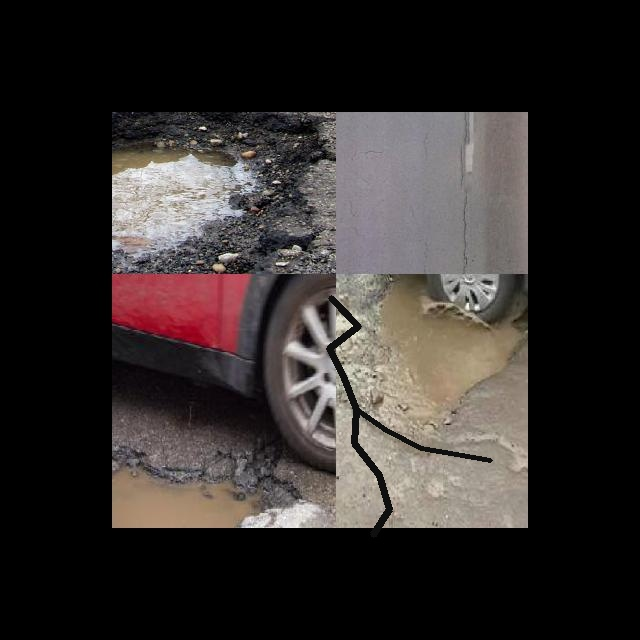road_crack: (319, 288, 399, 544)
